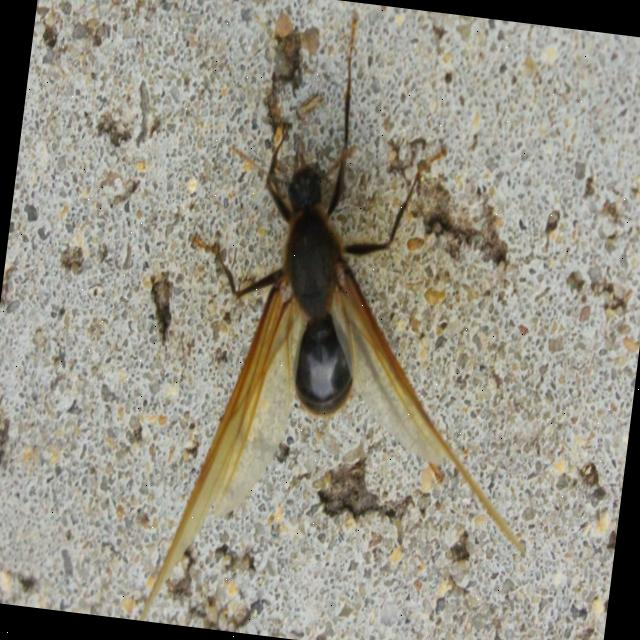Alive-Male-Alate: (123, 0, 583, 640)
